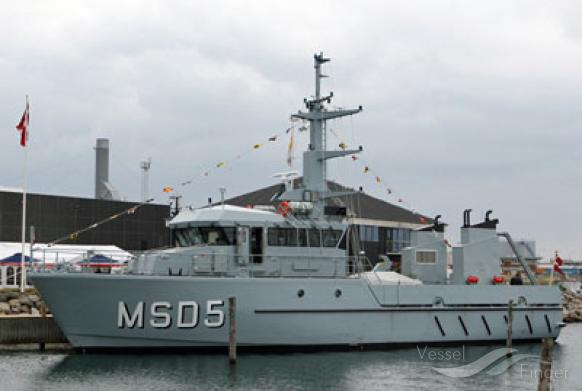OCR: (104, 294, 228, 338)
